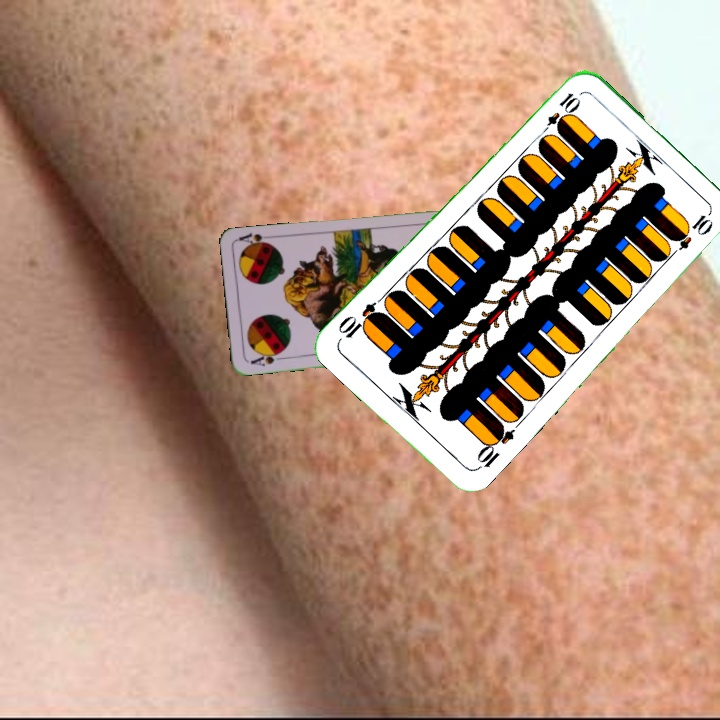E10: (471, 420, 517, 474), (537, 88, 582, 139)
SA: (246, 348, 286, 369)
